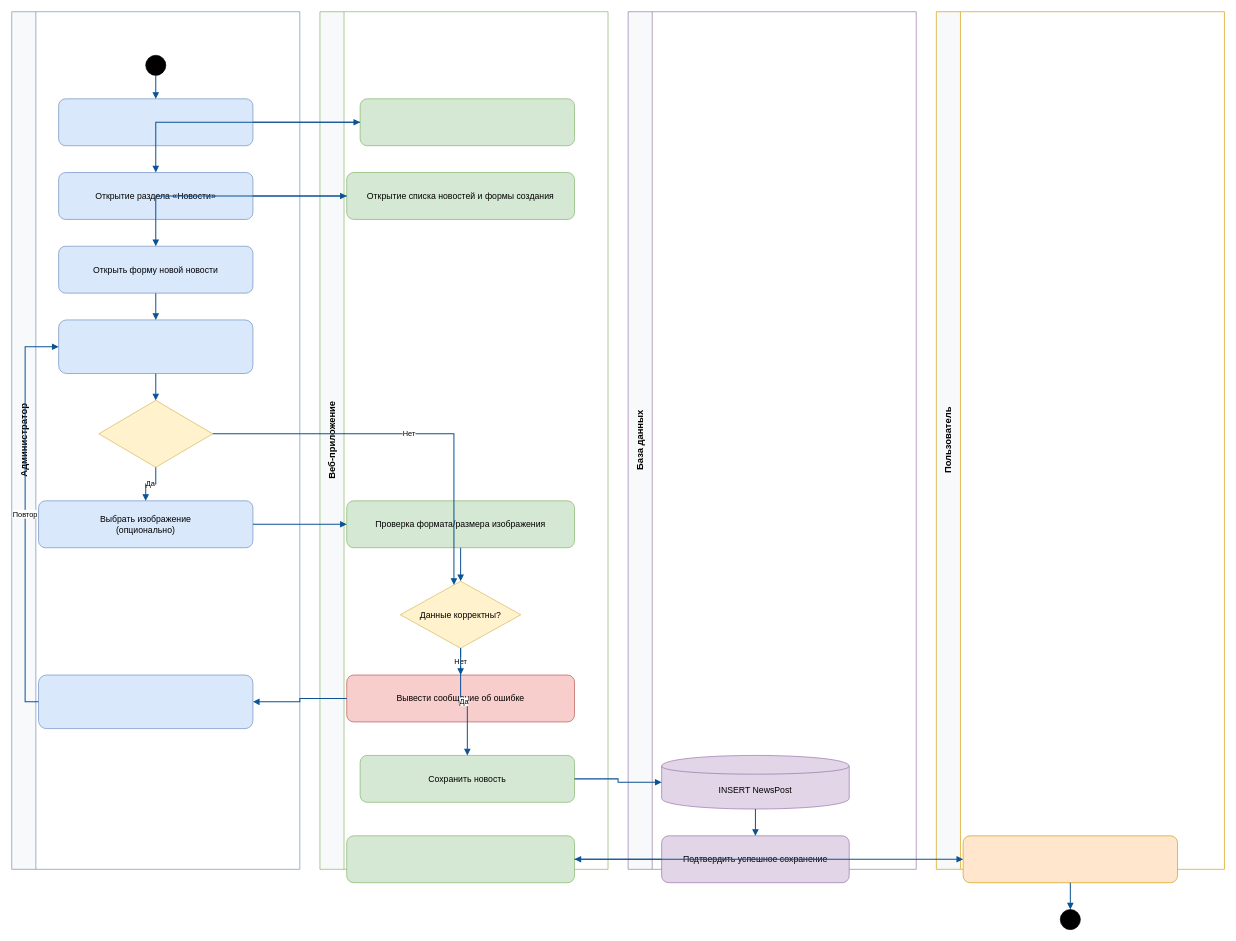
This 1236x941 diagram has some shape labels left out. Here are the shapes that lost their labels. From the top down, the box of each, then its label:
(58, 98, 253, 146): Вход администратора в систему
(359, 98, 575, 146): Проверка учетных данных и прав
(58, 319, 253, 374): Ввести заголовок и текст новости
(98, 400, 213, 467): Добавить изображение?
(38, 674, 253, 729): Исправить данные и повторить попытку
(346, 835, 575, 883): Опубликовать новость в интерфейсе
(962, 835, 1178, 883): Пользователь видит новую новость
